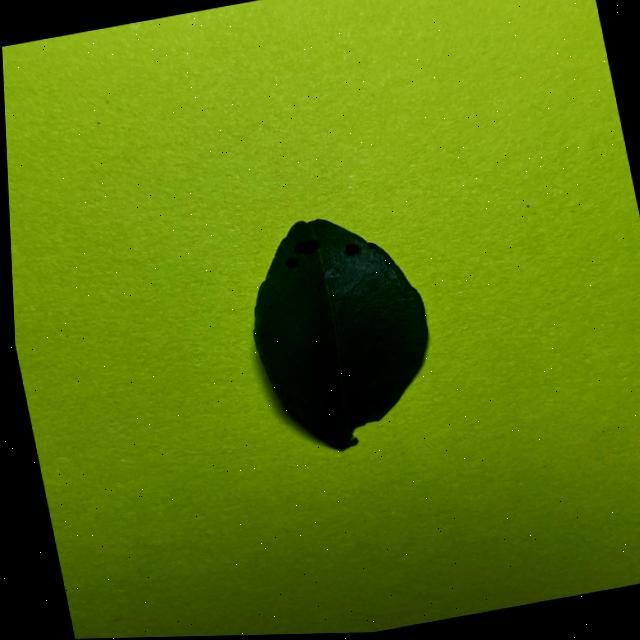sooty_mold: (254, 220, 427, 450)
